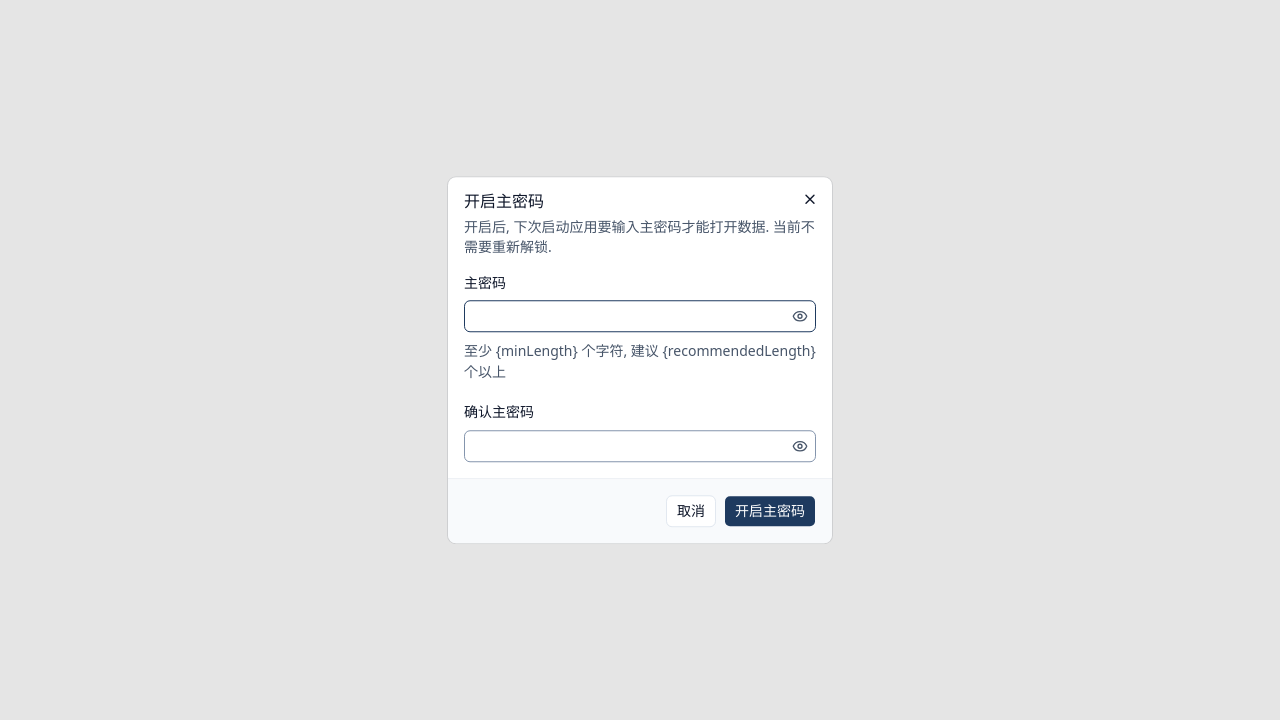
Test: 开启主密码对话框: 提交 › 桥报告失败时在顶部提示条显示, 提示里没有主密码, 不通知成功
Type "a long enough password" into the password field labelled "主密码" at point(626, 316), box [465, 300, 788, 332]
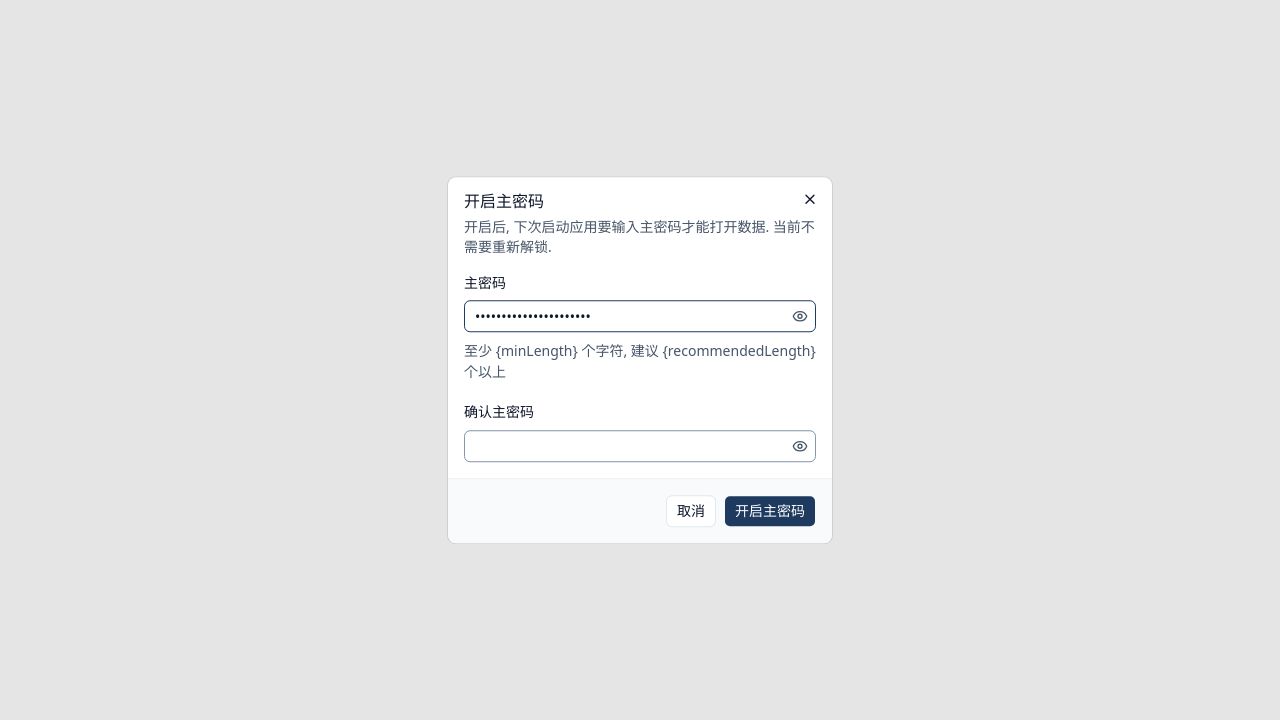
Type "a long enough password" into the password field labelled "确认主密码" at point(626, 446), box [465, 430, 788, 462]
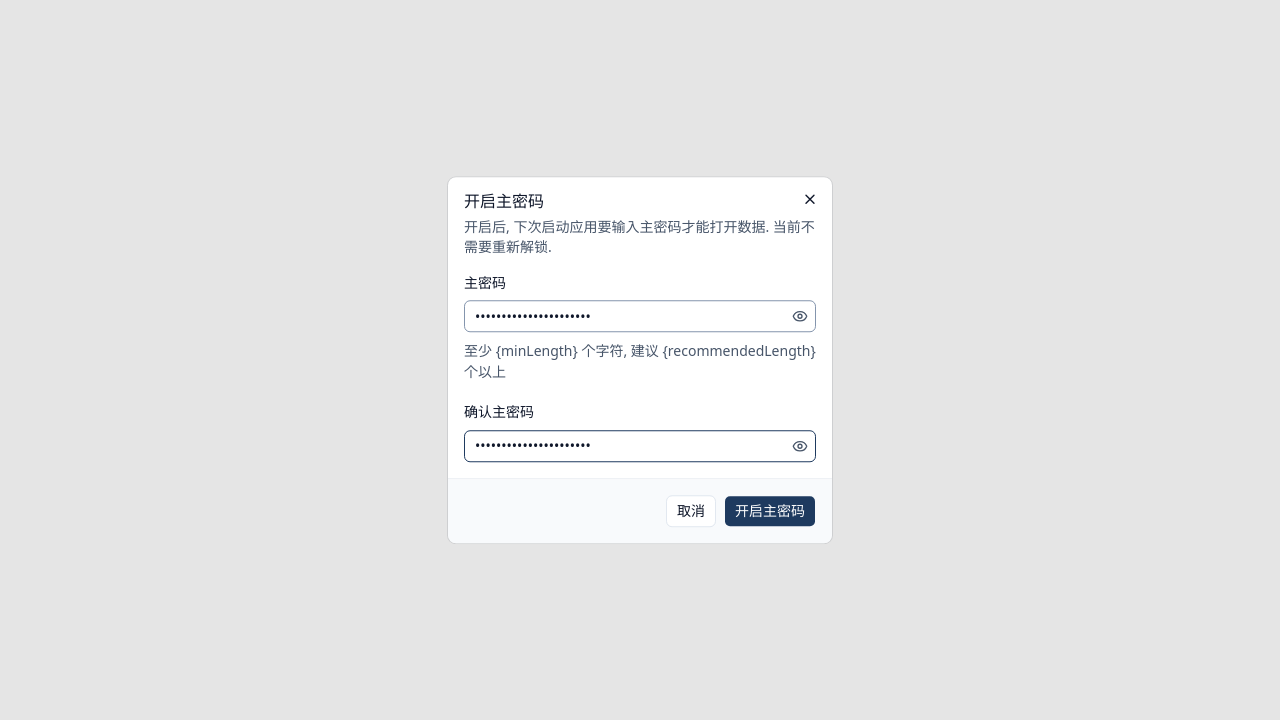
Click the button "开启主密码" at point(770, 511), box [724, 495, 816, 527]
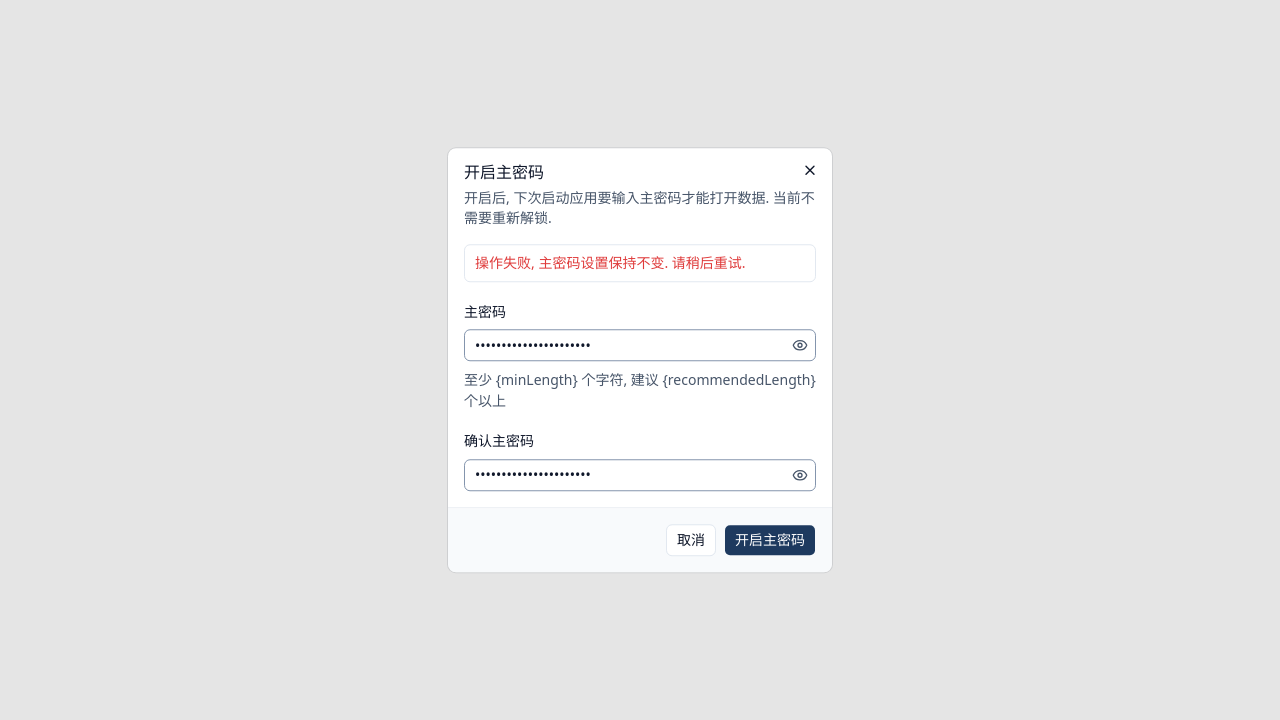
Expected: the message reads "操作失败, 主密码设置保持不变. 请稍后重试.", [475, 253, 746, 272]
